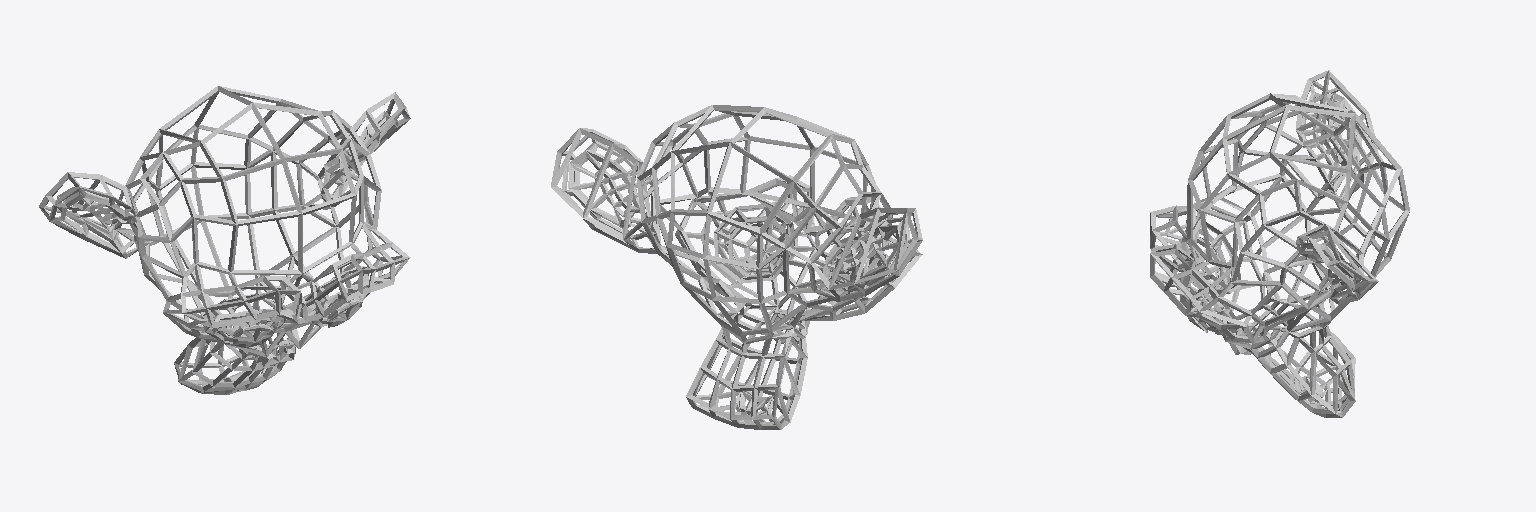
The model's file is wireframe_monkey_task_4.obj.
3 renders of one model, left to right at view 1: azimuth 30°, elevation 25°; view 2: azimuth 150°, elevation 25°; view 3: azimuth 270°, elevation 25°, orthographic.
Visible parts, largest first — view 1: Suzanne; view 2: Suzanne; view 3: Suzanne.
Part boxes in pixels (left/top/right/bottom): Suzanne: left=39, top=86, right=410, bottom=394; Suzanne: left=551, top=105, right=922, bottom=429; Suzanne: left=1150, top=70, right=1409, bottom=417.
Size of the model in its own units: 0.6928 by 0.5539 by 0.4324.